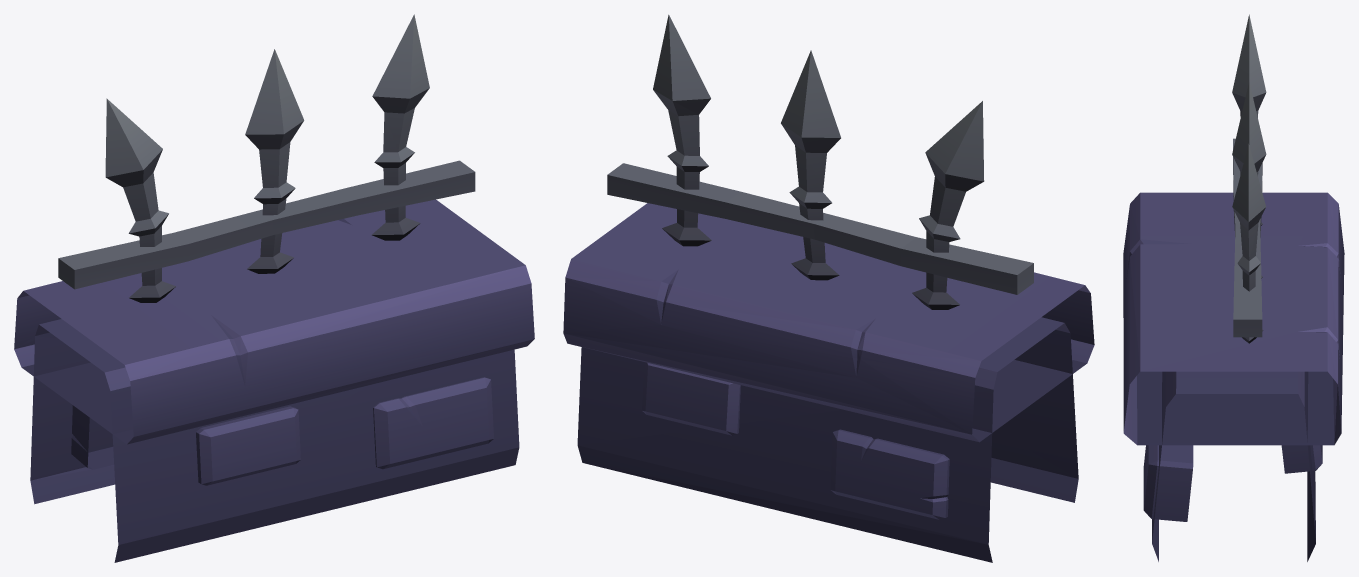
Rendered from fence_fragment.glb.
3 views of the same model, side by side, from view 1: azimuth 30°, elevation 25°; view 2: azimuth 150°, elevation 25°; view 3: azimuth 270°, elevation 25° (orthographic). The views are drawn at different scales.
Parts seen in each view (by area): view 1: fence_fragment; view 2: fence_fragment; view 3: fence_fragment.
Part boxes in pixels (<box>): fence_fragment: <box>14,14,534,562</box>; fence_fragment: <box>563,14,1094,562</box>; fence_fragment: <box>1123,14,1344,561</box>.
Bounding box in the file's own units: 2.39 × 2.44 × 1.24.
Materials: 1 (1 with a texture image).
